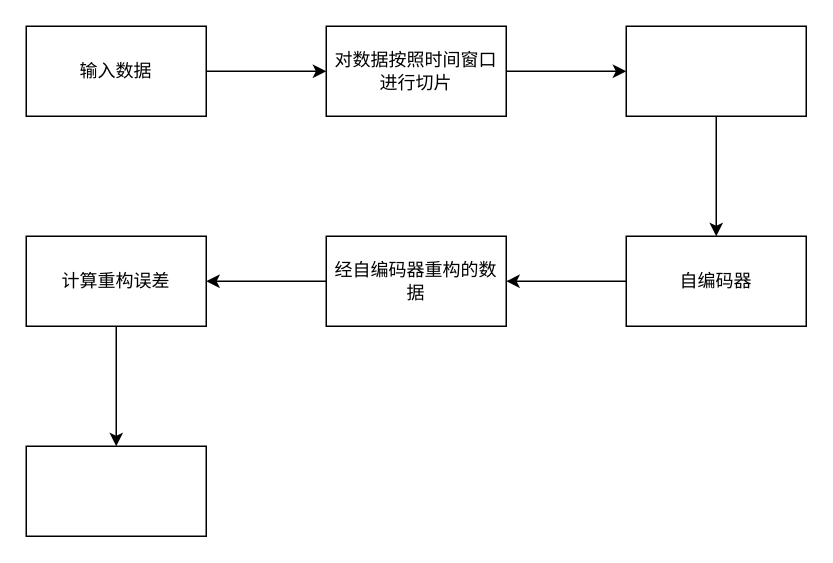
Image size: 833x563. Some labels were removed from this diagram. Each missing label, with the centre of its shape:
探测异常值: (115,490)
计算、提取时序数据的特征信息: (715,70)
